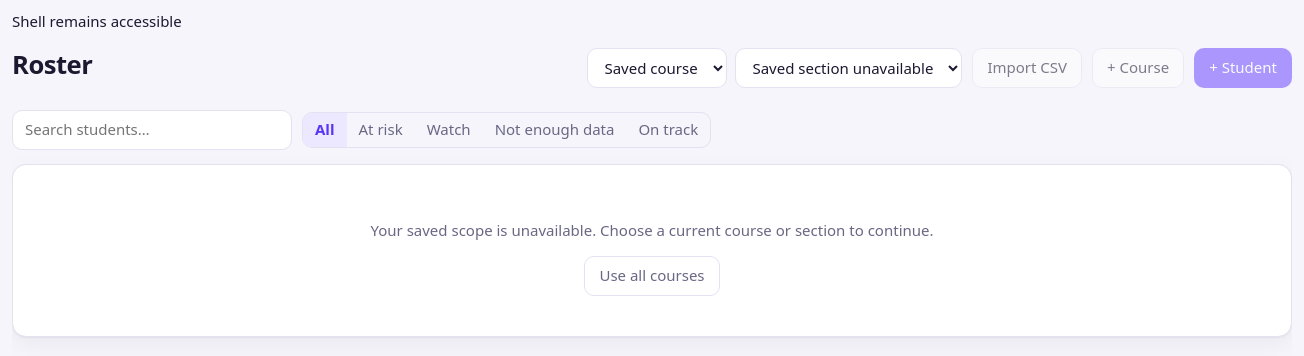
Scenario: saved scope hydration › missing section recovery can choose another section without broadening its course
Expected: the text "Your saved scope is unavailable." is shown, [370,220,600,240]
Step 1. Select "Saved section" in the dropdown named "Section" → [849, 68], box [735,48,962,88]
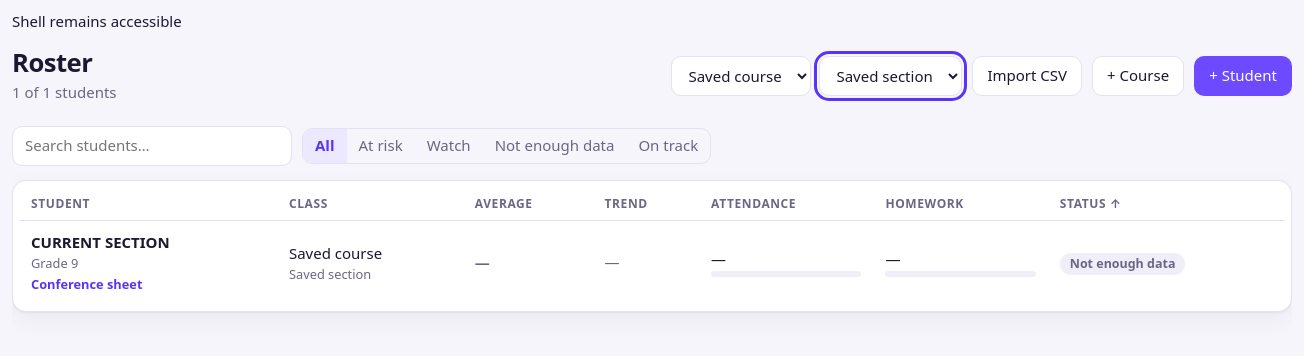
Now the link "CURRENT SECTION" is shown, box [31,232,170,252]
